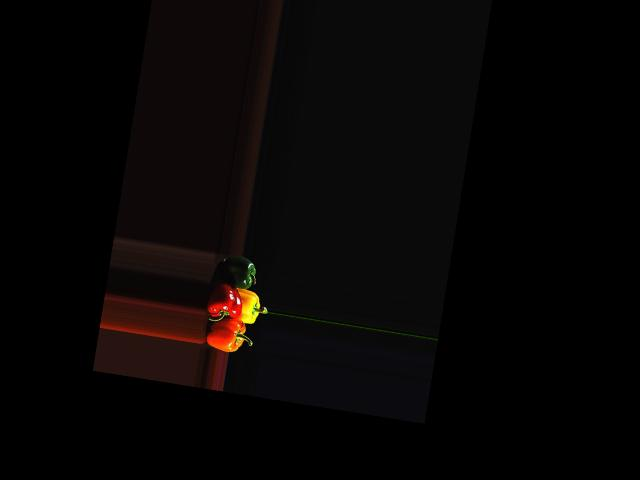bell_pepper: (198, 313, 252, 355)
